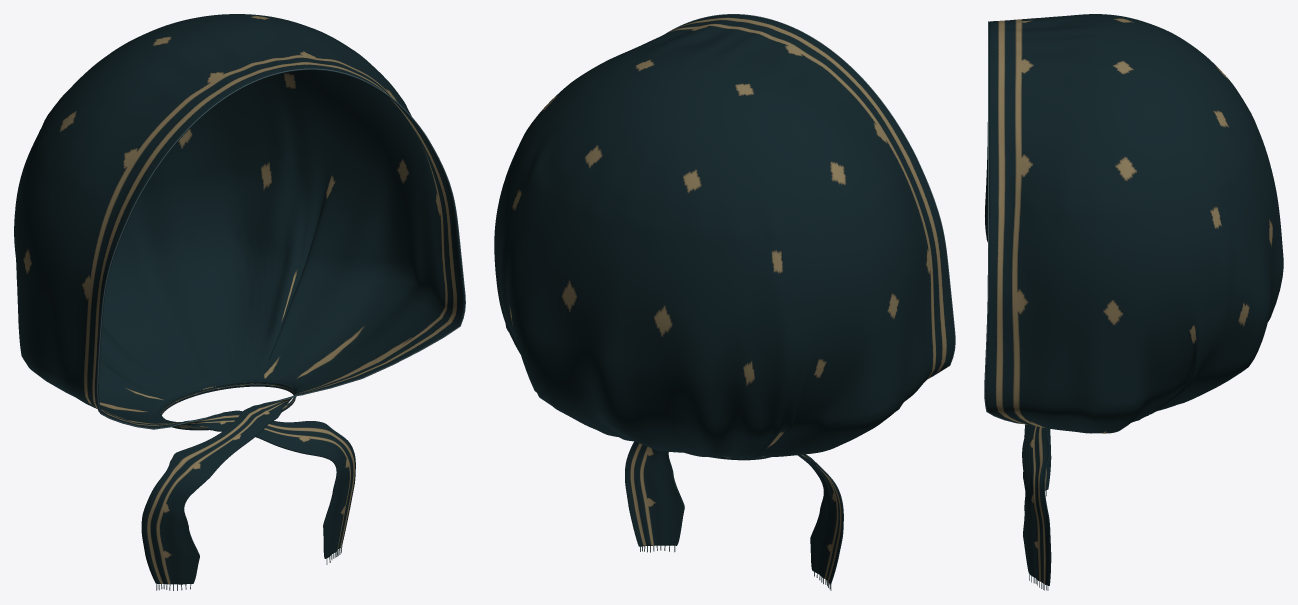
The model's file is Masculine-shirtless-pashmina247-headgear.glb.
The picture shows the model from 3 angles, left to right: view 1: azimuth 30°, elevation 25°; view 2: azimuth 150°, elevation 25°; view 3: azimuth 270°, elevation 25°; orthographic projection. The views are drawn at different scales.
Visible parts, largest first — view 1: 226 headgear / Headwear / continuous woven pashmina239, 226 headgear / Headwear / face edge239; view 2: 226 headgear / Headwear / continuous woven pashmina239, 226 headgear / Headwear / face edge239; view 3: 226 headgear / Headwear / continuous woven pashmina239, 226 headgear / Headwear / face edge239.
Part boxes in pixels (bbox=[...]): 226 headgear / Headwear / continuous woven pashmina239: bbox=[14, 14, 464, 584]; 226 headgear / Headwear / face edge239: bbox=[97, 68, 465, 429]; 226 headgear / Headwear / continuous woven pashmina239: bbox=[494, 14, 954, 584]; 226 headgear / Headwear / face edge239: bbox=[666, 14, 955, 378]; 226 headgear / Headwear / continuous woven pashmina239: bbox=[985, 14, 1283, 585]; 226 headgear / Headwear / face edge239: bbox=[984, 21, 1021, 423].
Bounding box in the file's own units: 1.03 × 1.35 × 0.7127.
Materials: 3 (1 with a texture image).
